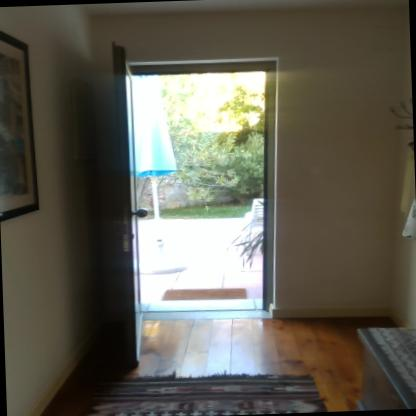open: (106, 47, 314, 368)
